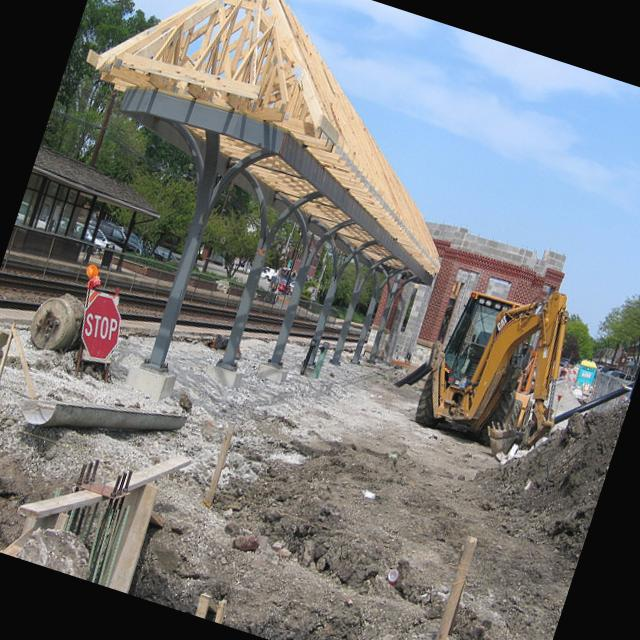Vehicle: (72, 222, 126, 254), (86, 216, 130, 248), (16, 202, 59, 234), (151, 243, 180, 266), (272, 276, 294, 297), (260, 270, 274, 282), (287, 280, 296, 293)
